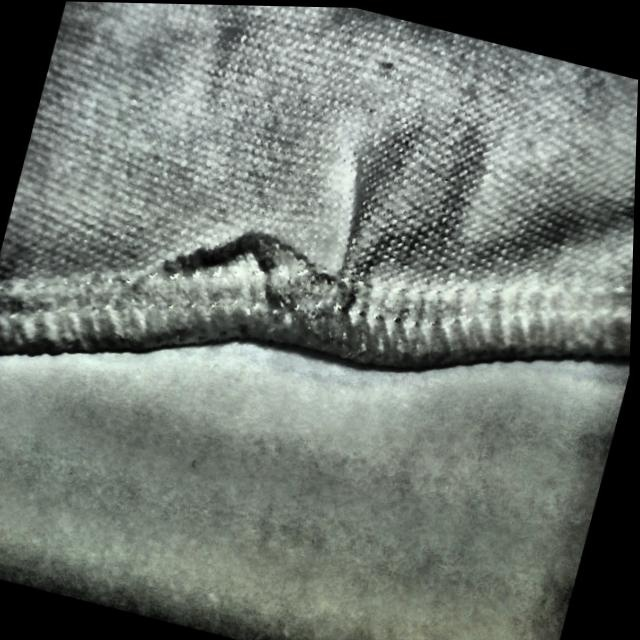seam: (141, 123, 422, 382)
